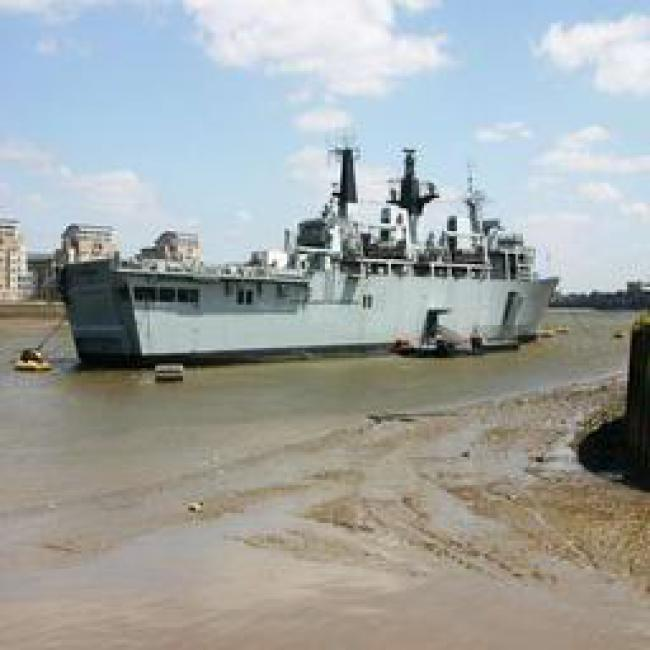Ship: (53, 201, 578, 368)
